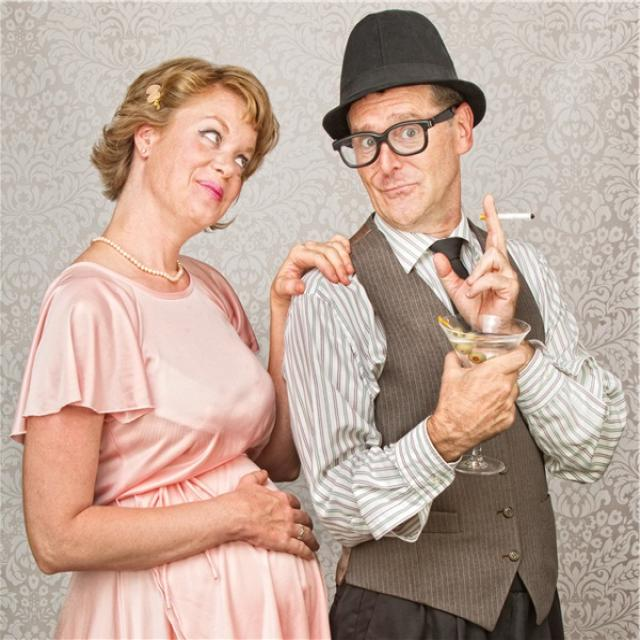smoking: (480, 209, 536, 221)
